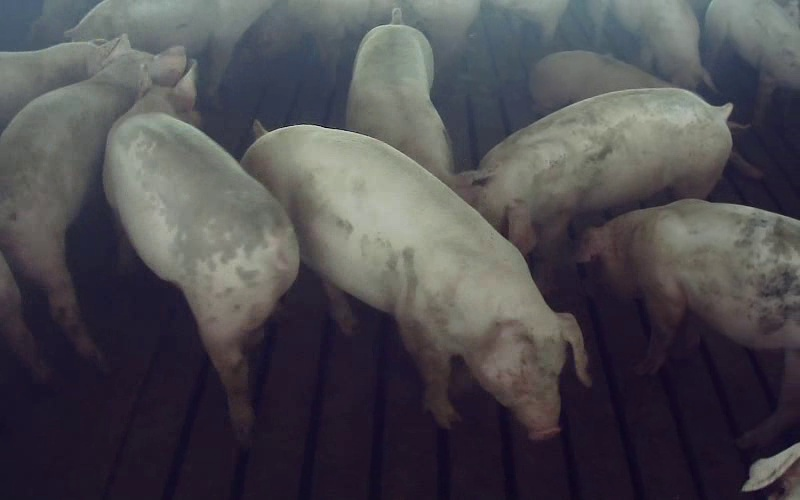pig: (243, 121, 585, 437), (105, 63, 298, 441), (0, 38, 185, 360), (579, 199, 799, 446), (65, 0, 271, 95), (346, 8, 453, 185), (587, 0, 720, 94), (705, 0, 799, 120), (529, 50, 671, 114)
